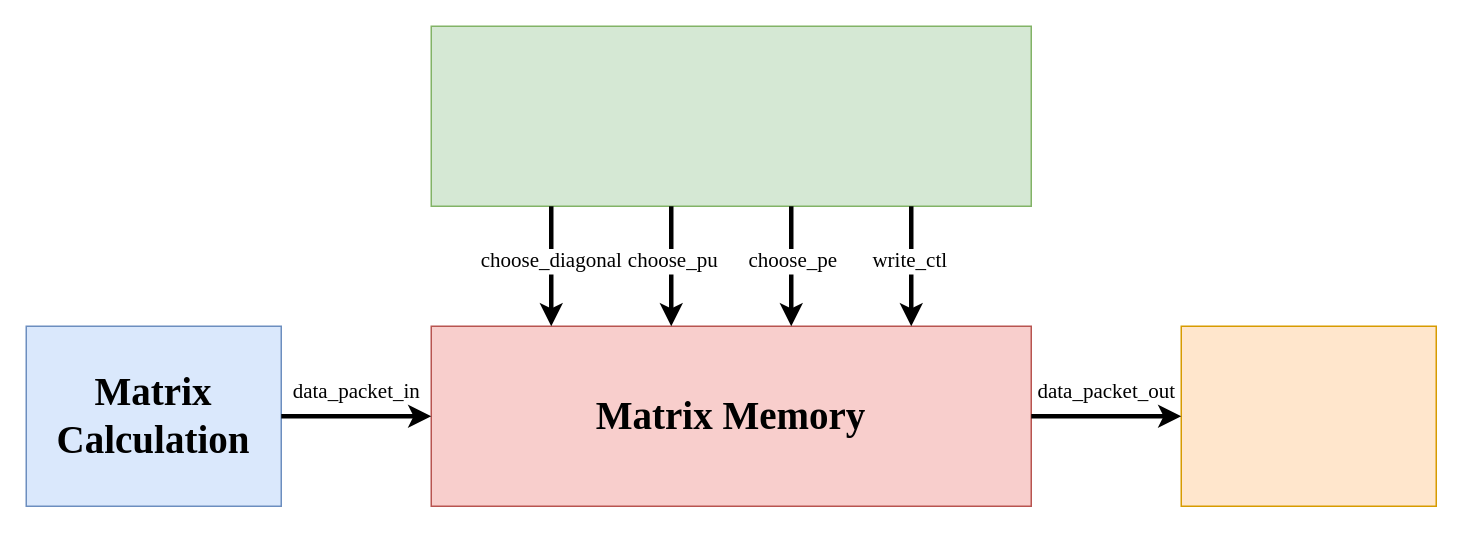
This 1463x533 diagram has some shape labels left out. The centre of each missing label's shape, as x and y in pixels:
"Controller" goes at point (730, 115).
"Traceback" goes at point (1308, 415).
